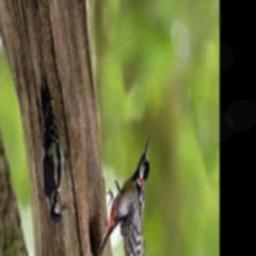Woodpecker: (100, 143, 150, 256), (41, 78, 69, 224)
